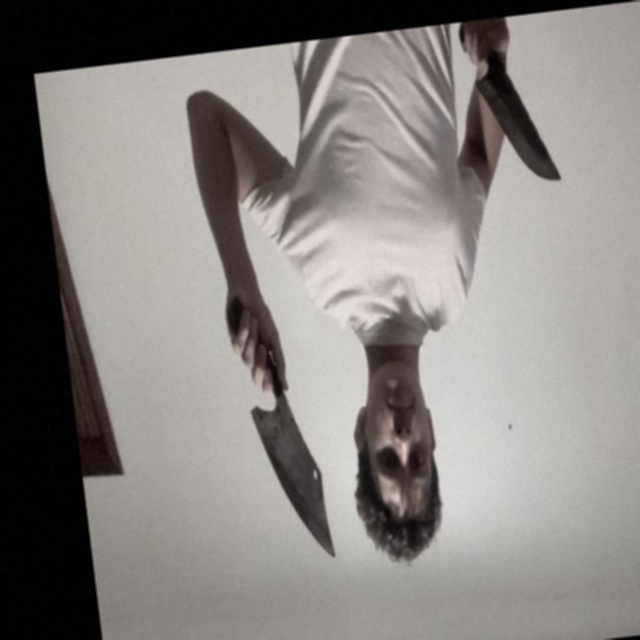Sharp-Object: (250, 395, 337, 568), (473, 70, 562, 190)
